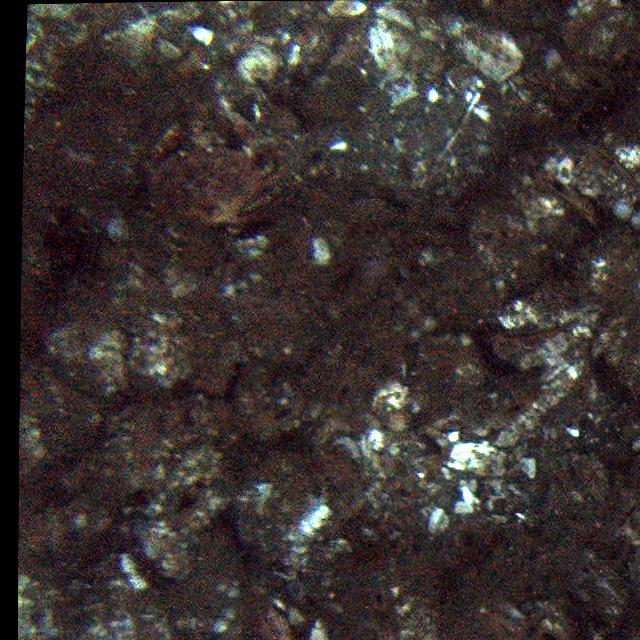crab: (139, 125, 290, 244)
